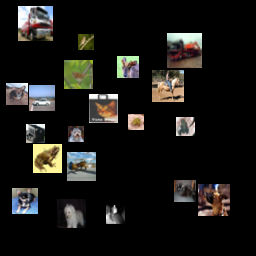airplane: (165, 2, 194, 31)
automobile: (7, 9, 33, 35), (72, 205, 91, 224)
bird: (118, 206, 134, 222)
cat: (135, 71, 167, 103), (186, 172, 215, 201)
deer: (20, 203, 55, 238), (212, 83, 231, 102)
dog: (202, 42, 234, 74), (97, 170, 129, 202), (213, 107, 239, 133), (180, 101, 202, 123), (206, 11, 225, 30)
frog: (109, 28, 144, 63), (140, 173, 175, 208), (20, 60, 52, 92), (161, 215, 183, 237)
ship: (209, 146, 228, 165)
